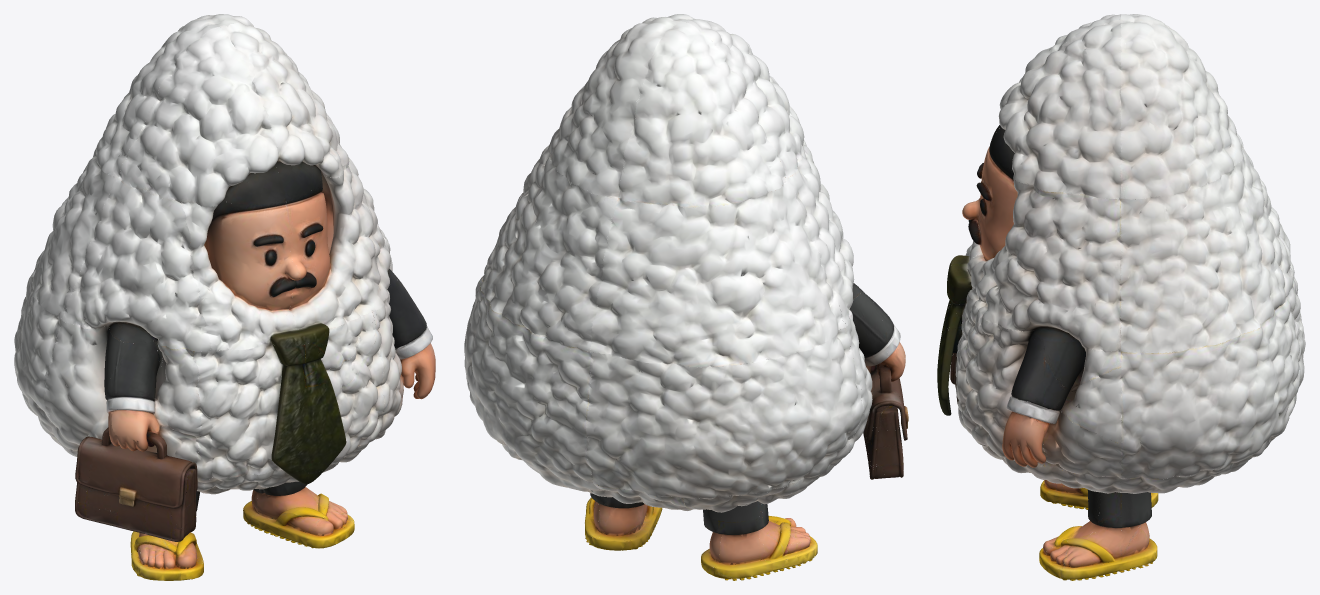
File: poop_src.glb
3 renders of one model, left to right at view 1: azimuth 30°, elevation 25°; view 2: azimuth 150°, elevation 25°; view 3: azimuth 270°, elevation 25°, orthographic. The views are drawn at different scales.
Visible parts, largest first — view 1: world; view 2: world; view 3: world.
Part boxes in pixels (x1,y1,x2,y2): world: [14, 14, 435, 580]; world: [464, 14, 908, 580]; world: [937, 14, 1305, 580].
Bounding box in the file's own units: 0.734 × 1 × 0.6514.
Materials: 1 (1 with a texture image).
